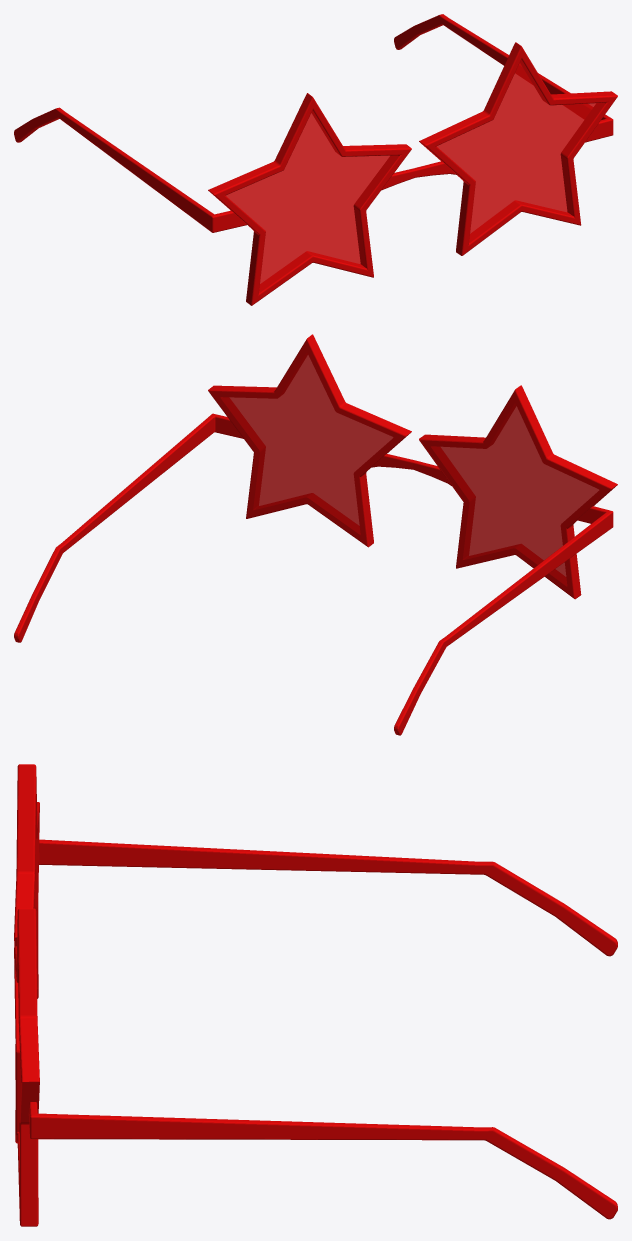
Rendered from star_sunglasses.glb.
The picture shows the model from 3 angles, top to bottom: view 1: azimuth 30°, elevation 25°; view 2: azimuth 150°, elevation 25°; view 3: azimuth 270°, elevation 25°; orthographic projection. The views are drawn at different scales.
Parts seen in each view (by area): view 1: Estrela_0; view 2: Estrela_0; view 3: Estrela_0.
Part boxes in pixels (x1,y1,x2,y2): Estrela_0: (14,14,617,305); Estrela_0: (14,334,617,735); Estrela_0: (14,764,617,1226).
Size of the model in its own units: 0.151 by 0.0696 by 0.1378.
